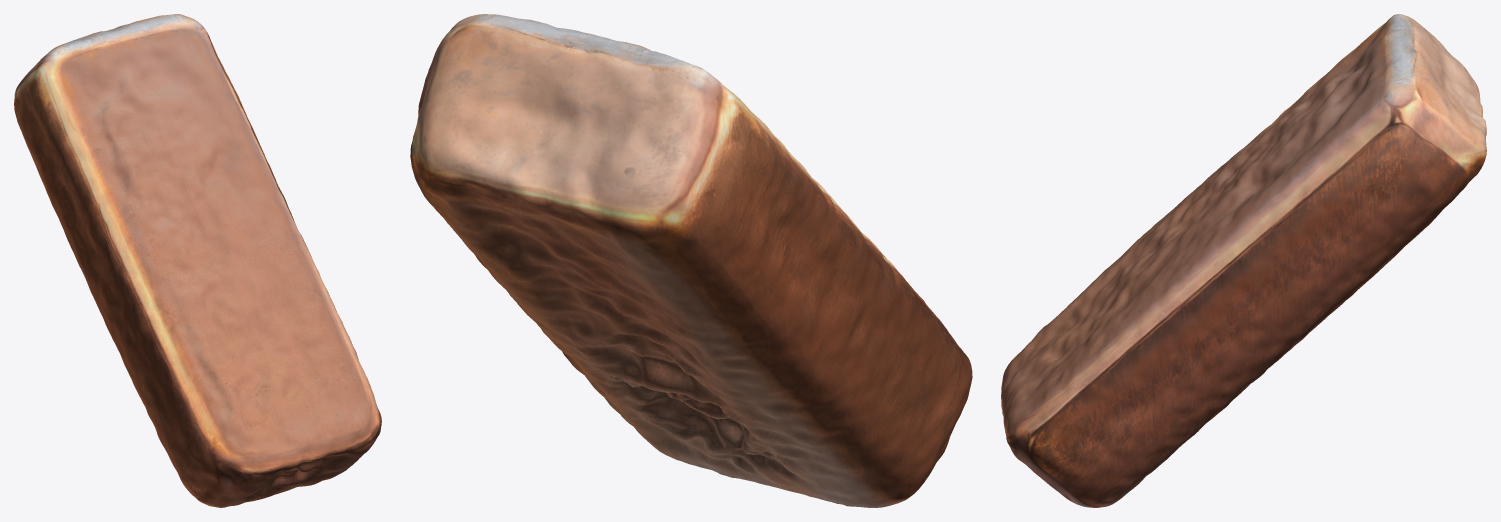
The model's file is Copper-ingot.glb.
3 renders of one model, left to right at view 1: azimuth 30°, elevation 25°; view 2: azimuth 150°, elevation 25°; view 3: azimuth 270°, elevation 25°, orthographic. The views are drawn at different scales.
Size of the model in its own units: 0.6606 by 1.15 by 1.2.
1 material, 1 textured.
